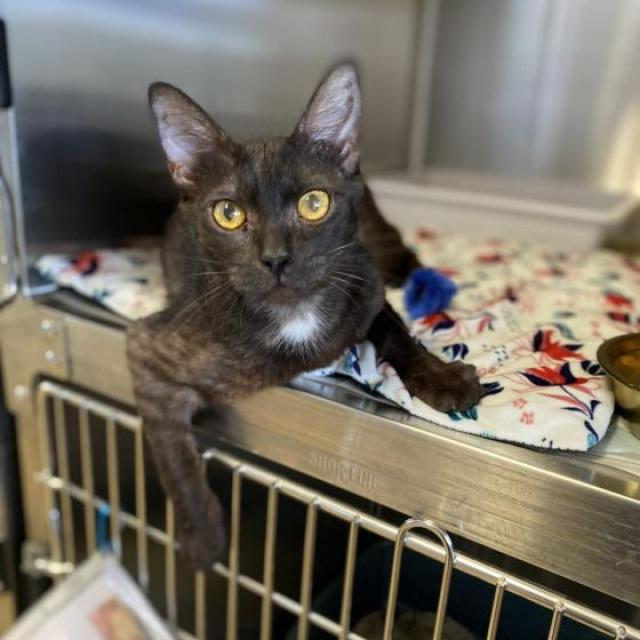domestic_short_hair_cat: (139, 54, 405, 360)
